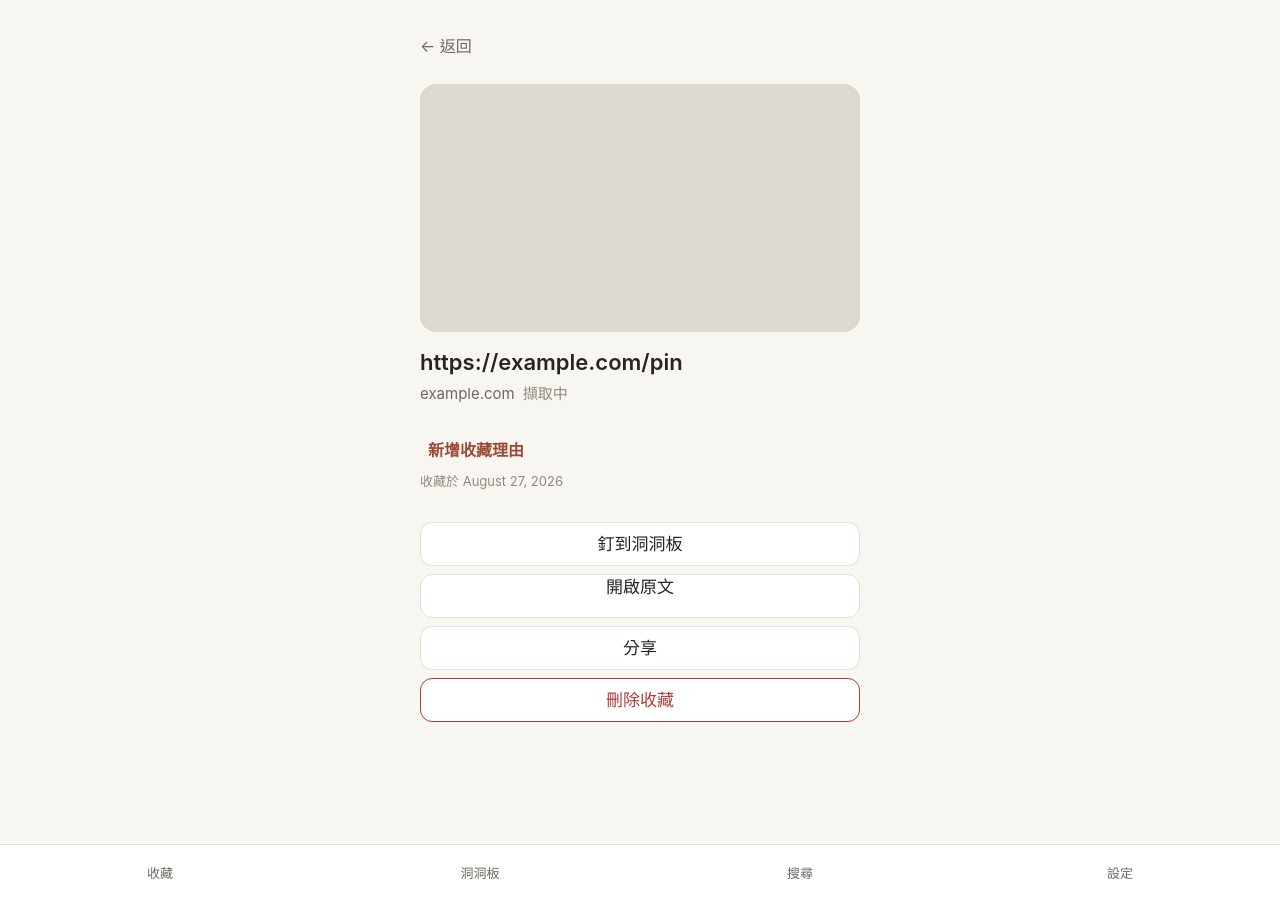
it: Bookmark Detail flow › toggles Pin/Unpin and persists it
expect the heading "https://example.com/pin" is shown: met, box [420,348,683,374]
What coordinates should you click on to do the following:
click the button "釘到洞洞板"
I would click on:
 (640, 544)
Its box is [420,522,860,566].
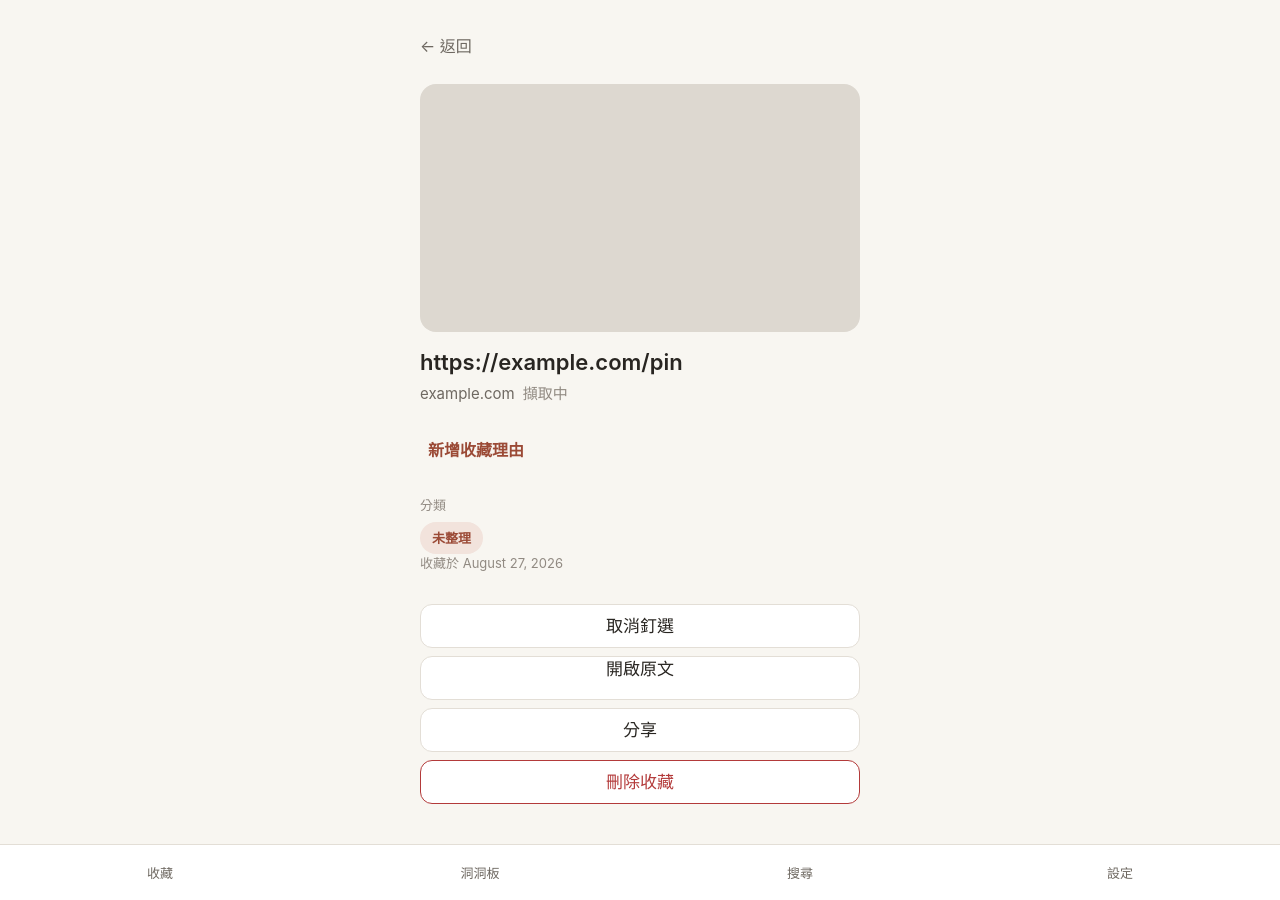
expect the button "取消釘選" is shown: met
What coordinates should you click on to do the following:
click the button "取消釘選"
I would click on:
 (640, 626)
Its box is [420,604,860,648].
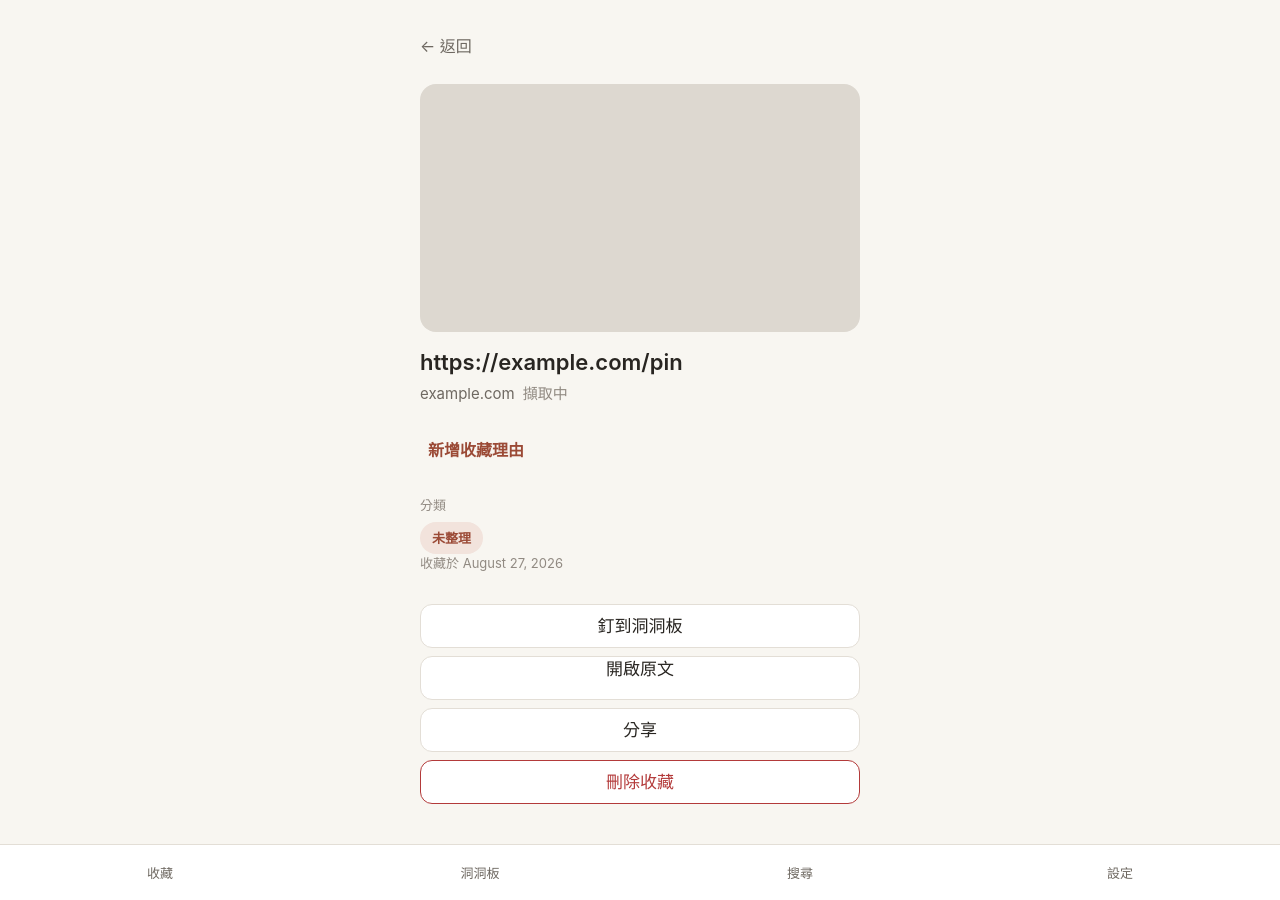
expect the button "釘到洞洞板" is shown: met, box [420,604,860,648]
